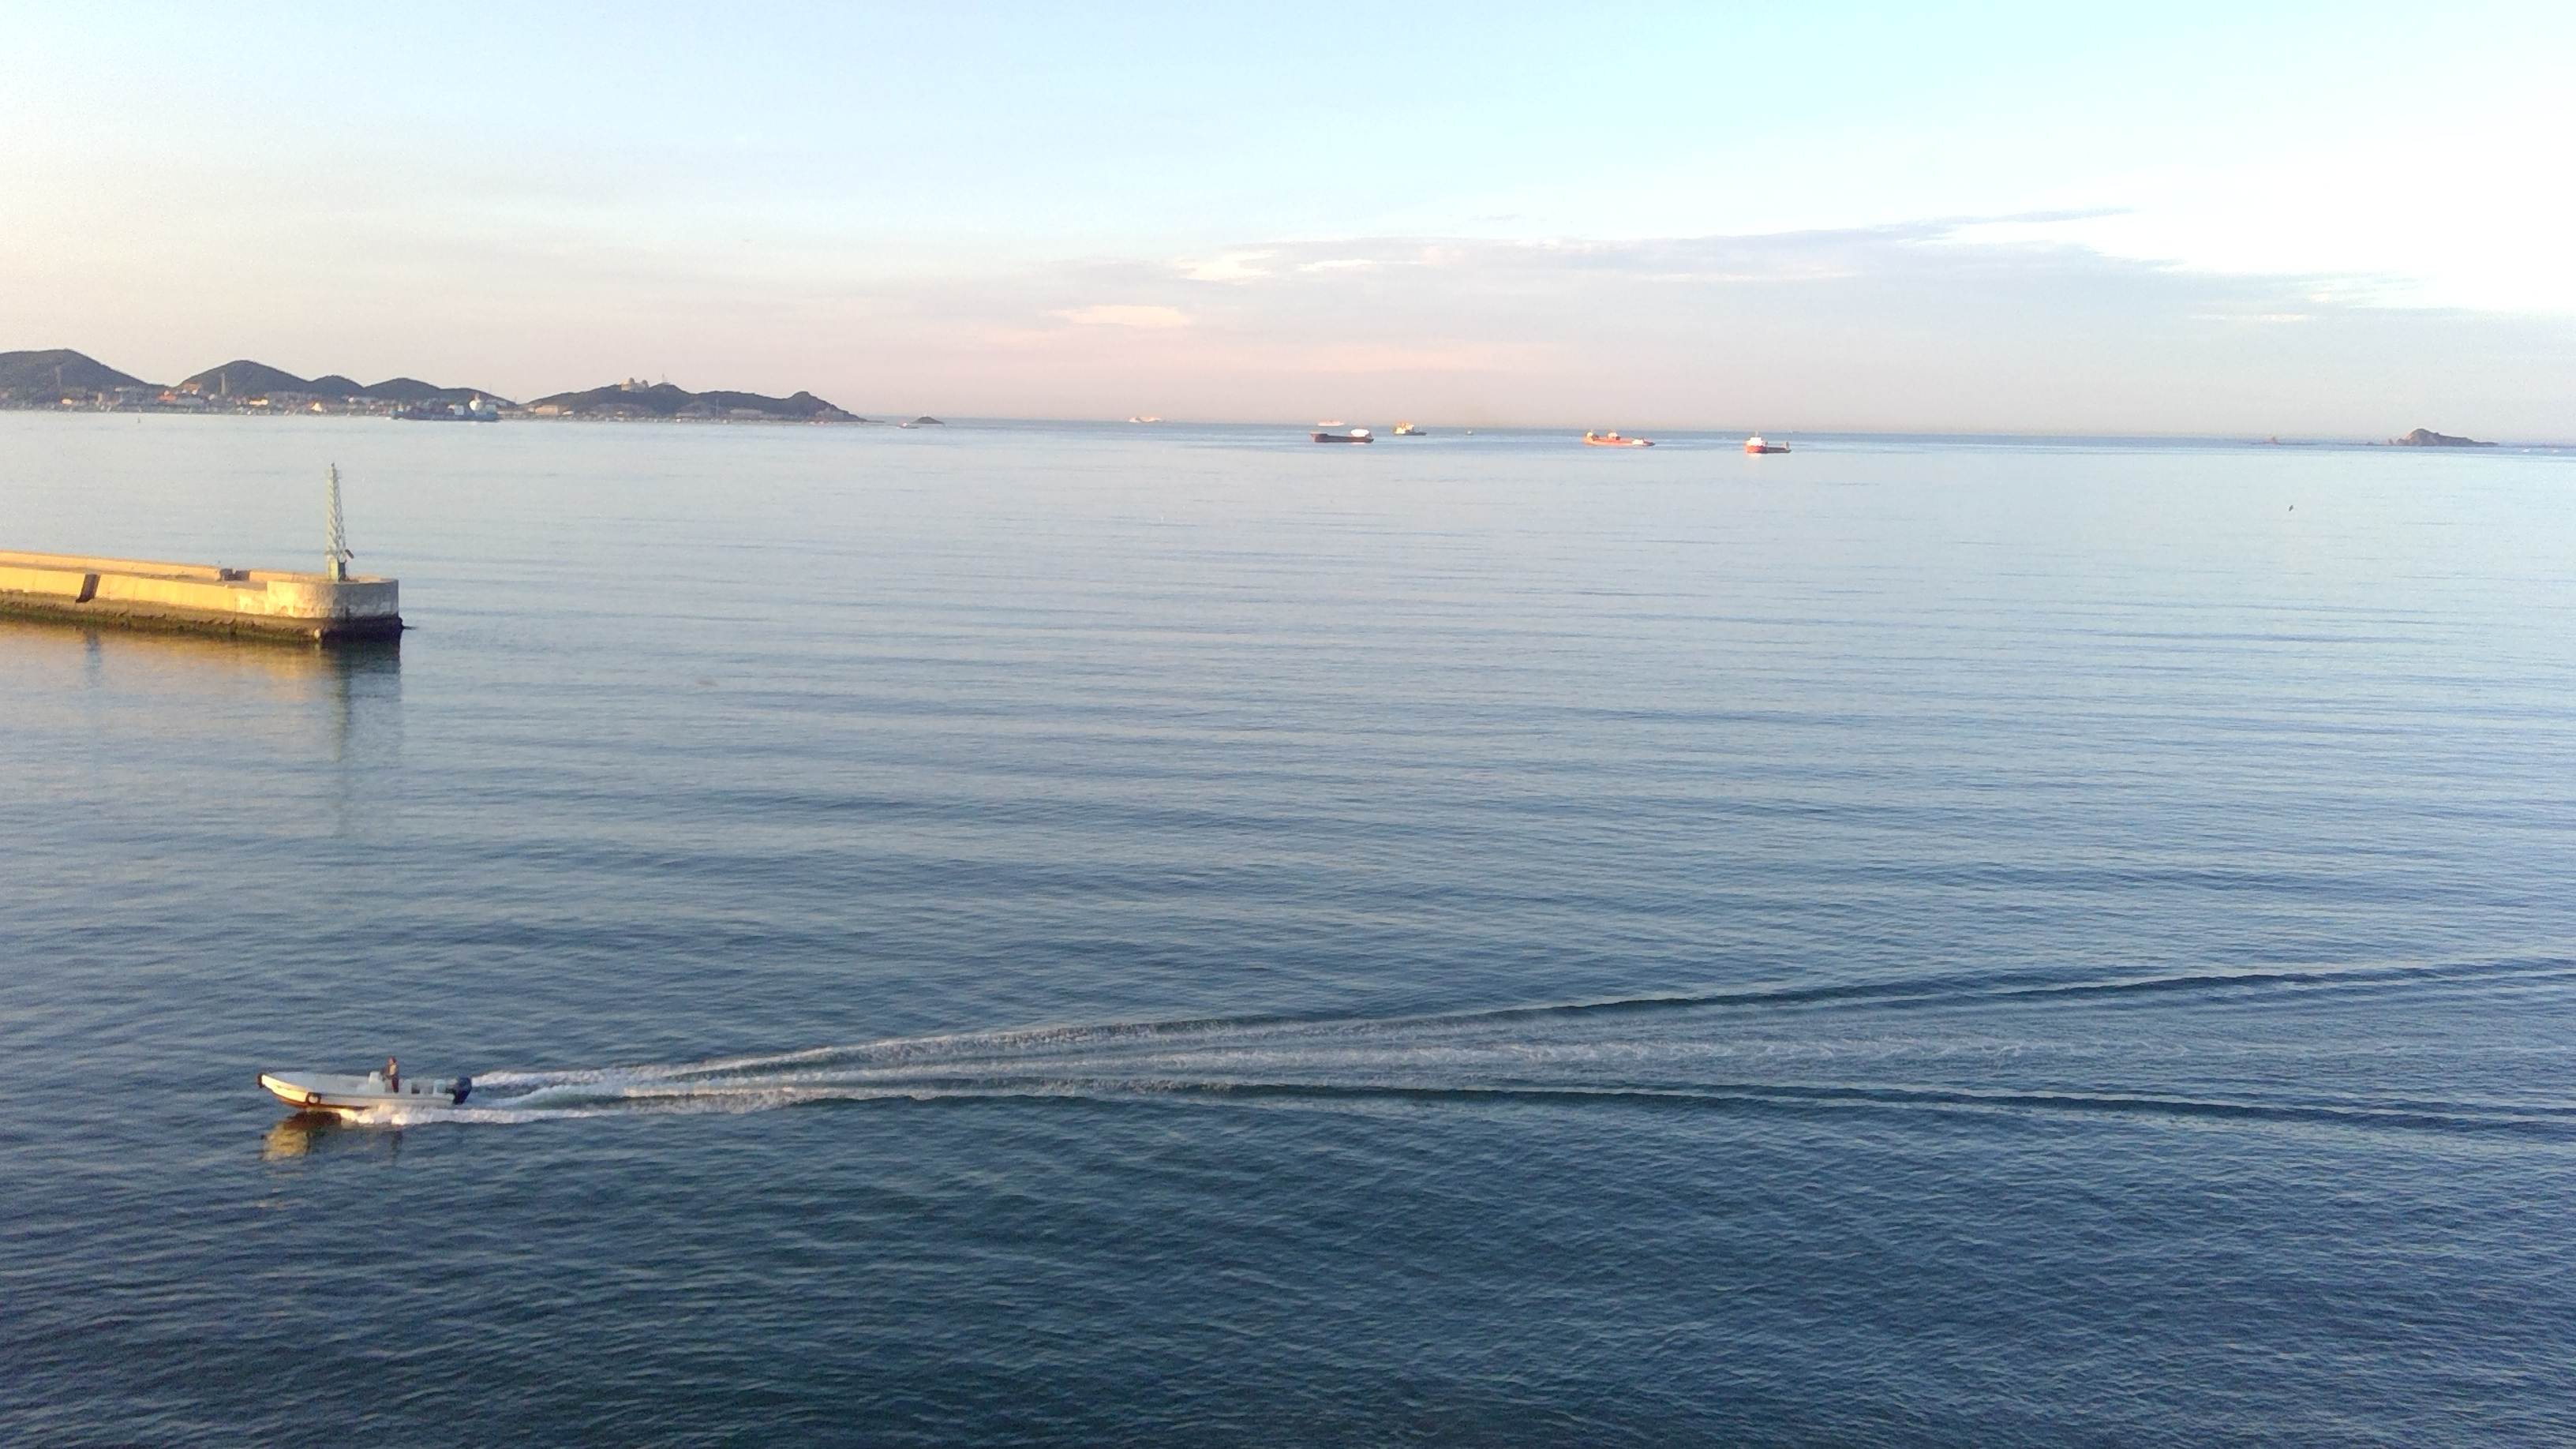boat: (248, 1026, 485, 1146)
harbor: (0, 437, 426, 653)
rock: (541, 368, 885, 423), (0, 334, 161, 419), (329, 359, 524, 416), (177, 341, 317, 416), (2380, 418, 2496, 458)
ship: (1300, 403, 1382, 455), (1575, 414, 1660, 453), (1736, 435, 1801, 458)
